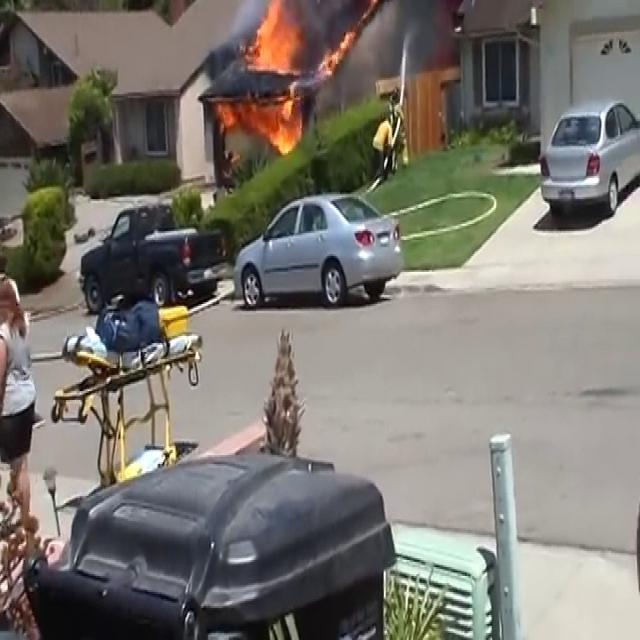Fire: (242, 1, 307, 157)
